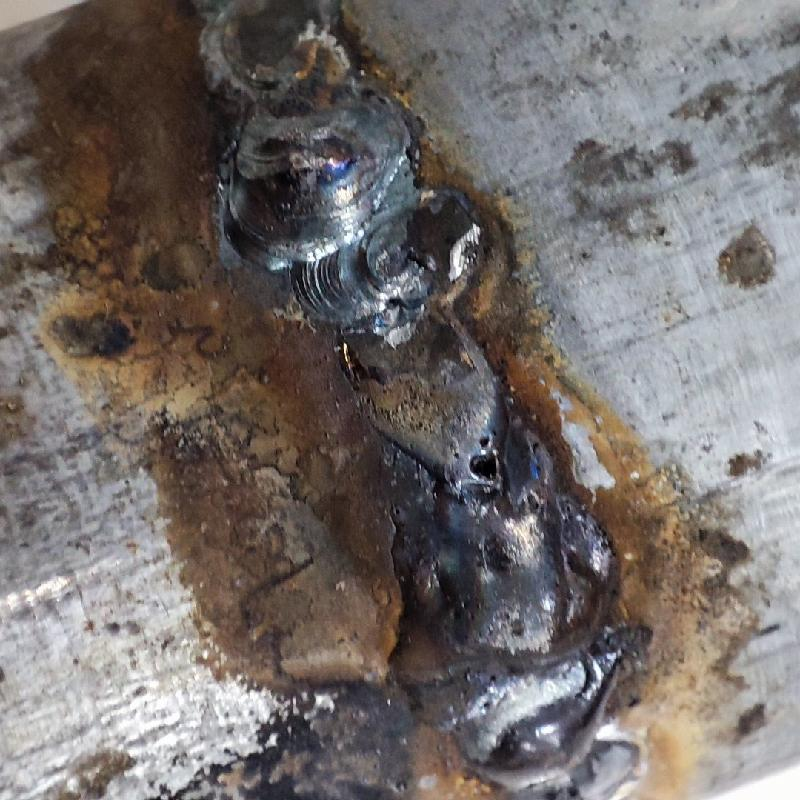Not_fully_soldered: (310, 233, 514, 495)
Surface_pores: (420, 410, 507, 489)
Weld: (363, 495, 618, 785)
wrong_size: (168, 0, 409, 265)
